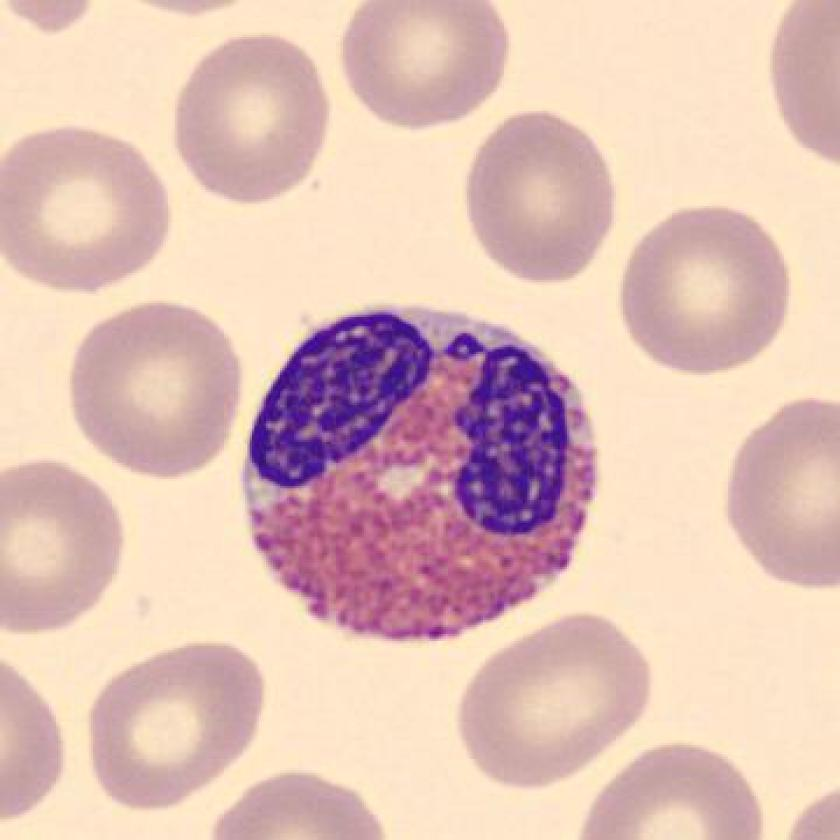eosinophil: (227, 288, 615, 656)
